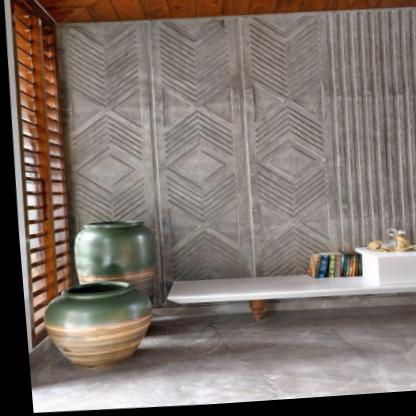Ceramic floor: (23, 310, 416, 412)
Wall Panel: (45, 2, 416, 307)
